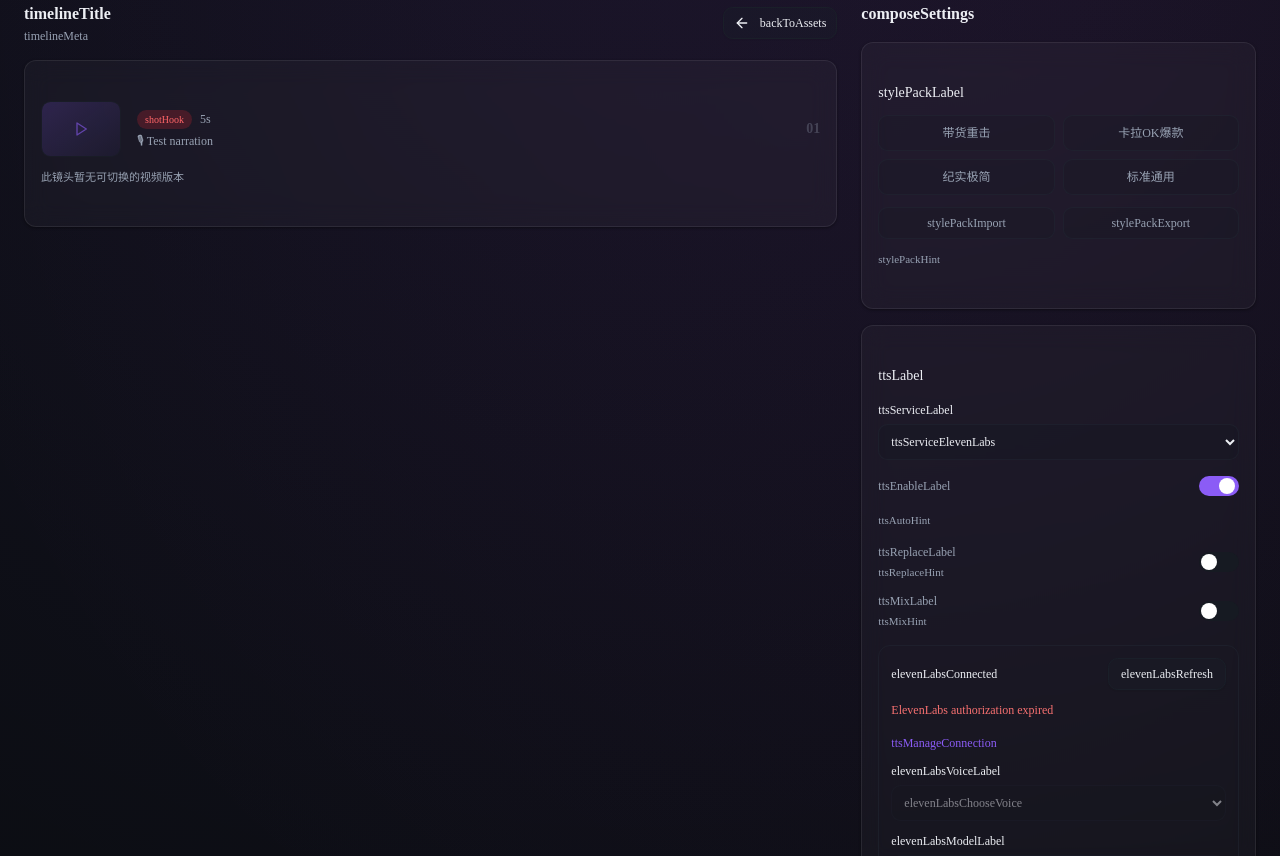
Test case: settings-owned voice services › directs expired credentials to settings and allows a successful account refresh
This screenshot has width=1280, height=856.
Expected: the message "ElevenLabs authorization expired" is shown, [891,703,1053,717]
Expected: the link to "/settings?tab=tts" is shown, [891,735,997,751]
Click the button "elevenLabsRefresh" at (1167, 674), box [1108,658,1226,690]
(page scrolled)
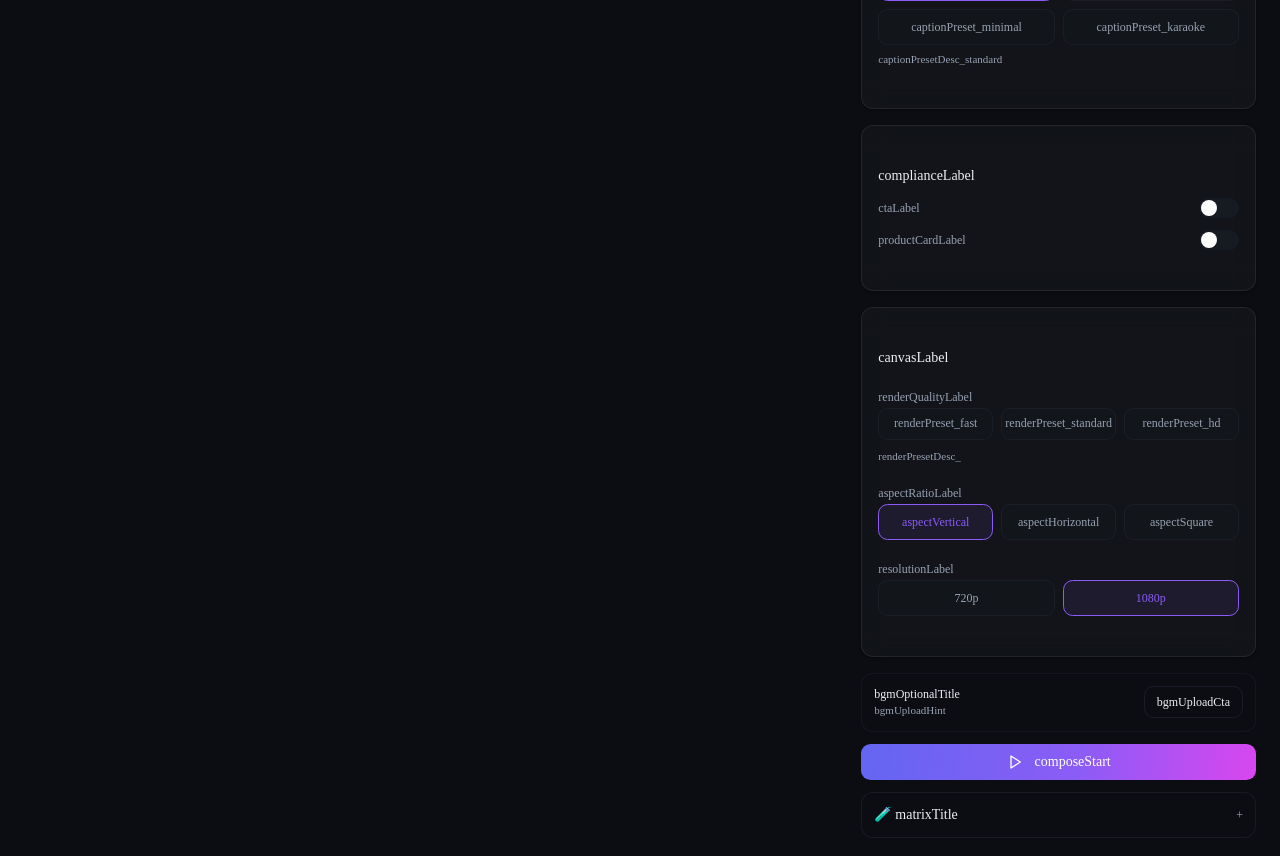
Now the button "composeStart" is enabled, box [861,744,1256,780]
